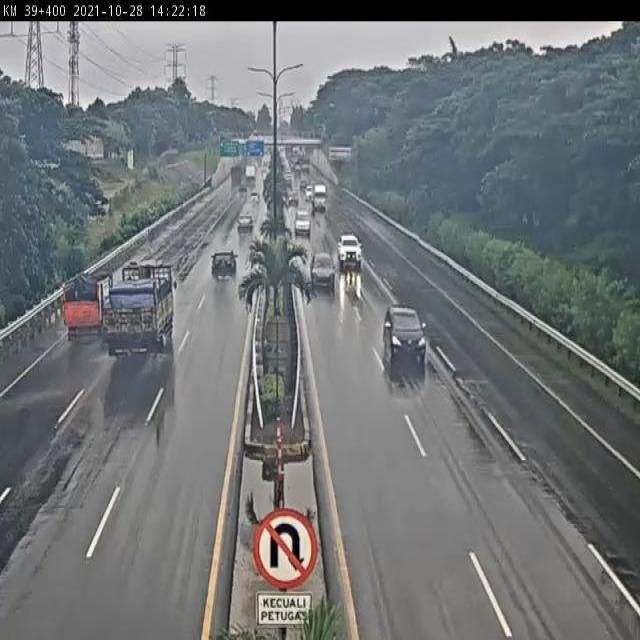ARABA: (376, 301, 431, 367), (208, 246, 240, 282), (336, 231, 363, 268), (309, 252, 335, 288), (293, 205, 312, 236), (235, 212, 257, 237), (249, 186, 262, 206)
KAMYONET: (105, 260, 188, 369), (57, 268, 106, 355)
